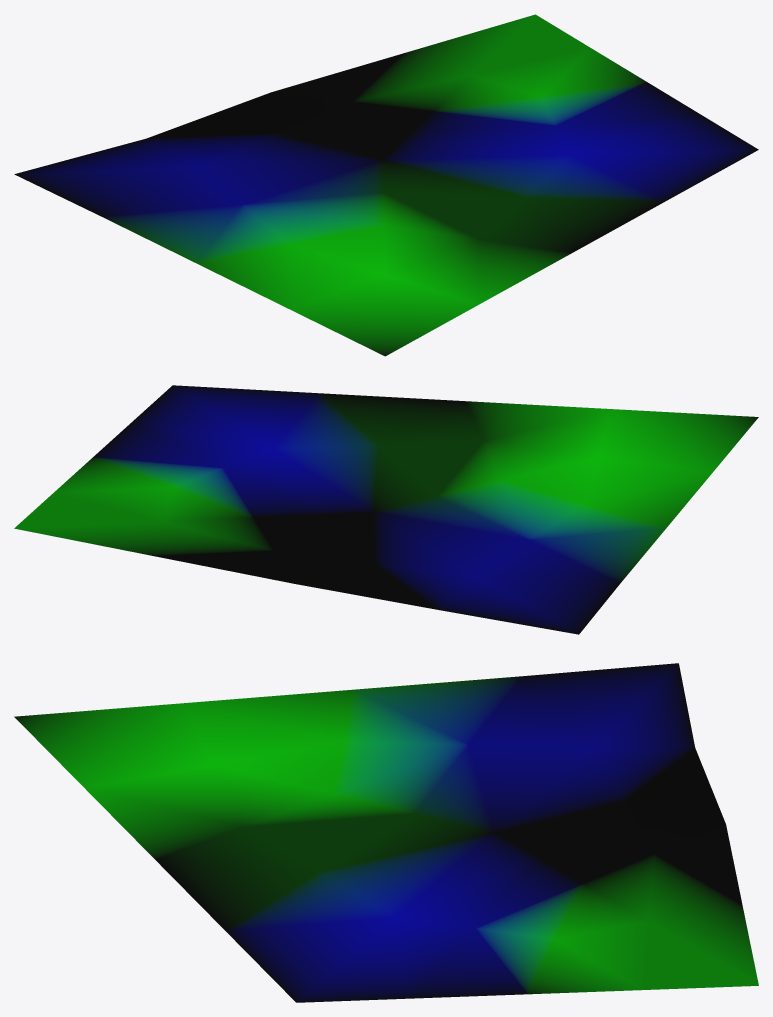
3 renders of one model, top to bottom at view 1: azimuth 30°, elevation 25°; view 2: azimuth 150°, elevation 25°; view 3: azimuth 270°, elevation 25°, orthographic. The views are drawn at different scales.
Parts seen in each view (by area): view 1: Sprite__2_; view 2: Sprite__2_; view 3: Sprite__2_.
Part boxes in pixels (<box>): Sprite__2_: <box>14,14,758,356</box>; Sprite__2_: <box>14,385,758,634</box>; Sprite__2_: <box>14,663,758,1002</box>.
Size of the model in its own units: 601 by 3.23 by 558.
